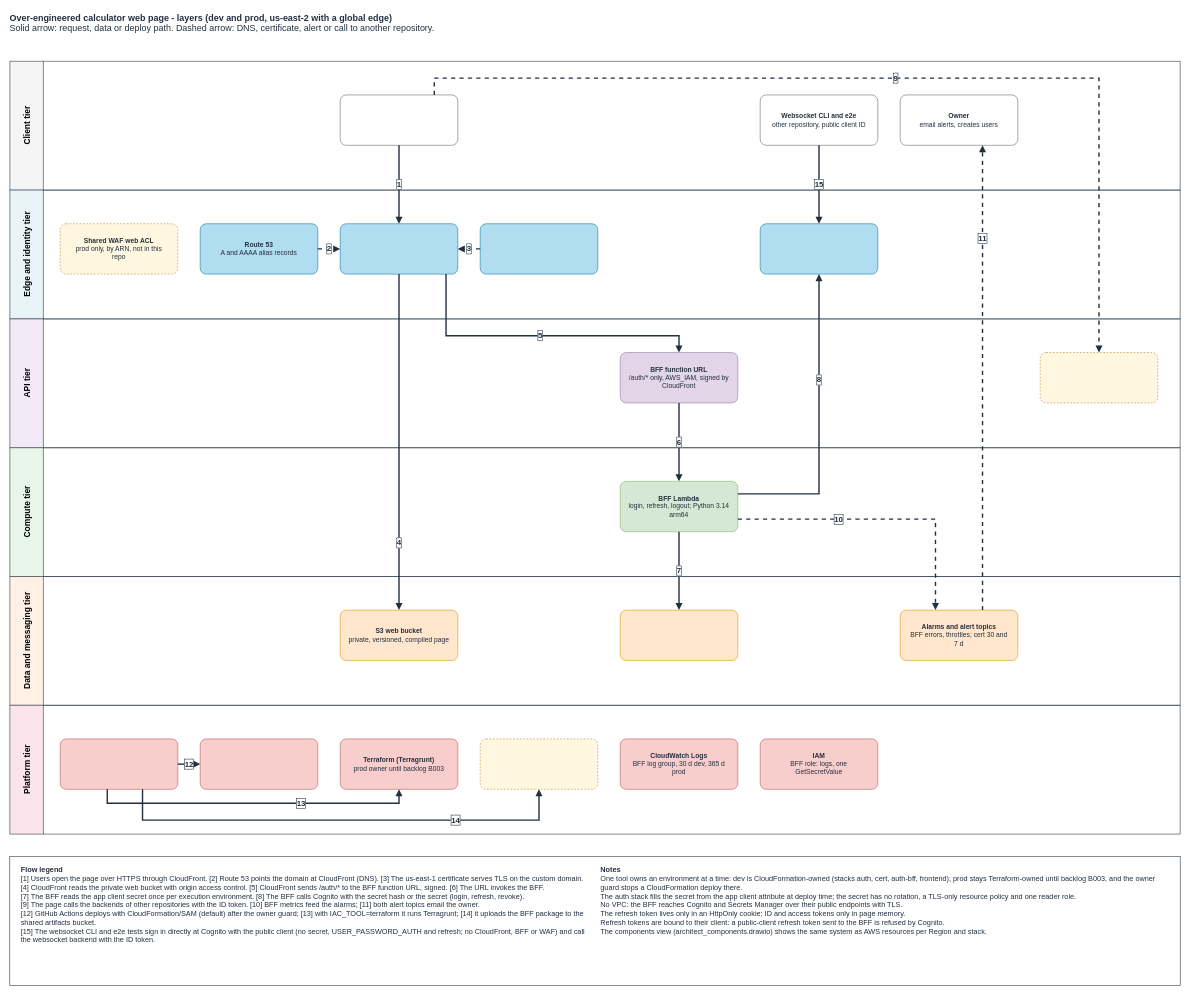
Some shapes in this 1190 by 995 pixel diagram are drawn without their labels. The shapes that lost their labels are listed below. From the top down, each one's centre as x and y in pixels, then its label:
At point (399, 119): "Users Flutter Web page in the browser".
At point (399, 248): "CloudFront OAC, TLS 1.2+, HSTS and CSP".
At point (539, 248): "ACM certificate us-east-1, DNS validated".
At point (819, 248): "Cognito user pool confidential client (BFF), public client (CLI)".
At point (1099, 377): "Backends sls and ecs other repositories, /api/v1".
At point (679, 635): "Secrets Manager secret app client secret, AWS managed key".
At point (119, 763): "GitHub Actions OIDC role, owner guard, IAC_TOOL".
At point (259, 763): "CloudFormation / SAM 4 stacks, guarded change sets (dev)".
At point (539, 763): "Shared artifacts bucket add-ons repo, BFF package".
